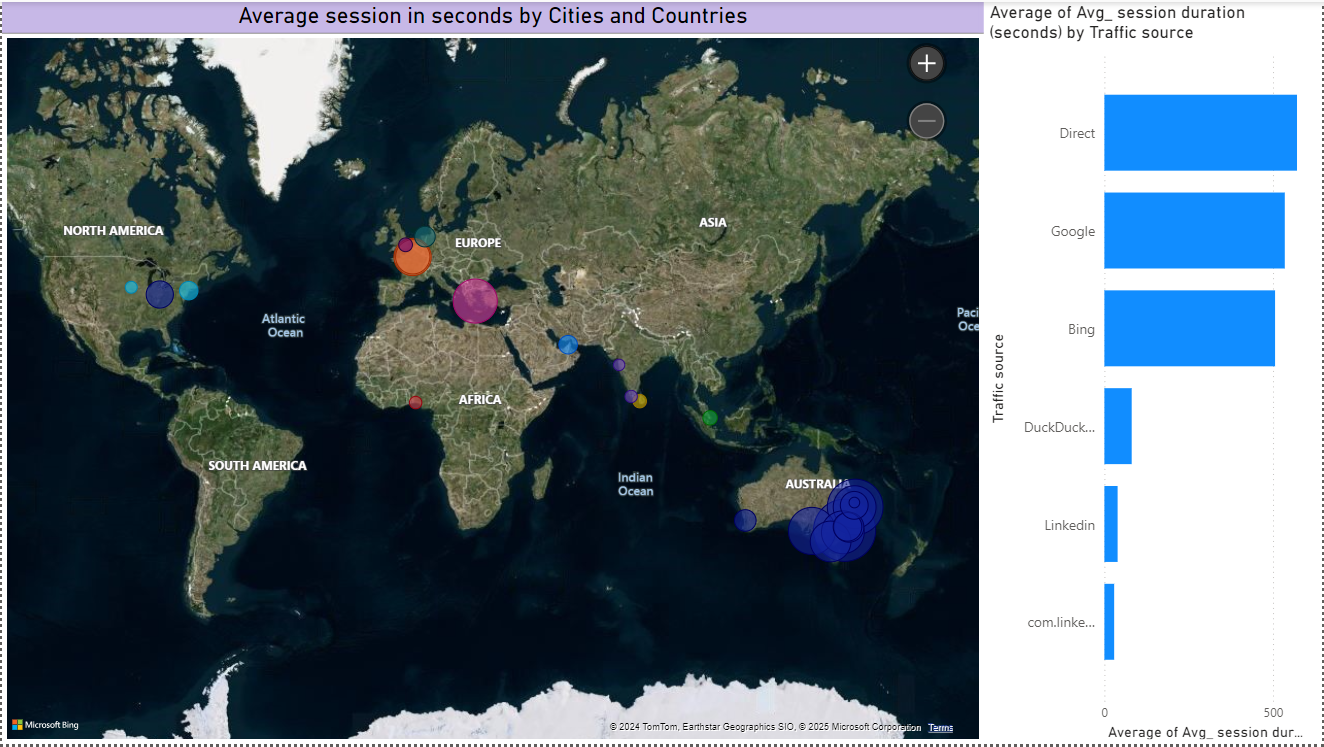

The page's visual inventory and layout, read from the dashboard file:
{"tool":"powerbi","page":{"name":"Page 2","canvas":[1280,720],"ordinal":1},"visuals":[{"type":"map","title":"Average session in seconds by Cities and Countries","fields":{"Category":["Traffic_report_2024-09-01-2024-10-01.City"],"Size":["Avg(Traffic_report_2024-09-01-2024-10-01.Avg_ session duration (seconds))"],"Series":["Traffic_report_2024-09-01-2024-10-01.Country"]},"box":[0,0,952.7,720.1],"z":1000},{"type":"clusteredBarChart","fields":{"Category":["Traffic_report_2024-09-01-2024-10-01.Traffic source"],"Y":["Avg(Traffic_report_2024-09-01-2024-10-01.Avg_ session duration (seconds))"]},"box":[952.7,0,327.3,720.1],"z":1001}]}

Visuals, with their boxes in screenshot pixels (x1, y1, x2, y2), scaled from the page's 1280x720 canvas onto the 1324x747 screenshot:
"Average session in seconds by Cities and Countries" map: 0 0 985 746
clusteredBarChart - Traffic_report_2024-09-01-2024-10-01.Traffic source x Avg(Traffic_report_2024-09-01-2024-10-01.Avg_ session duration (seconds)): 985 0 1323 746
